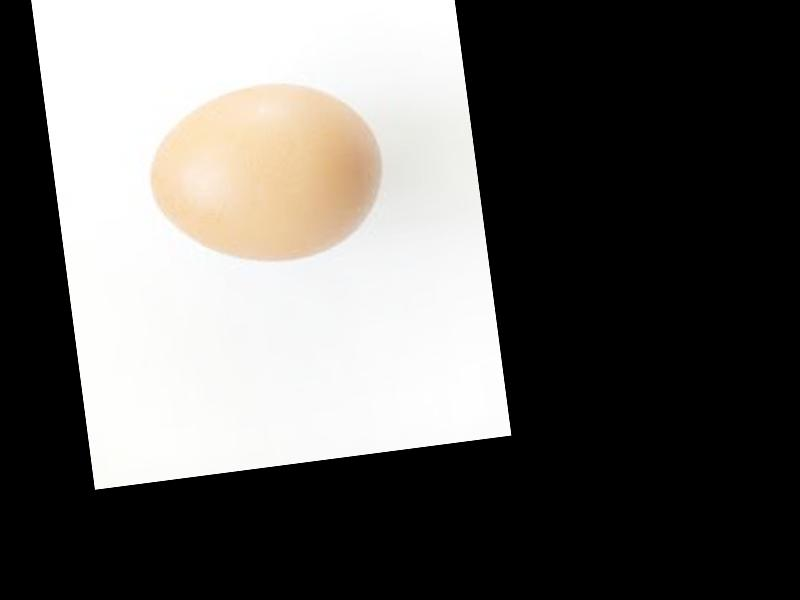Eggs: (136, 72, 395, 278)
